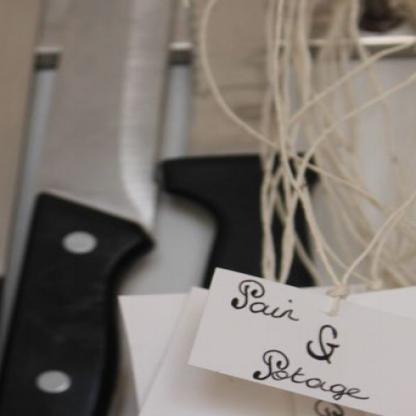knife: (0, 0, 183, 416), (152, 0, 332, 415)
